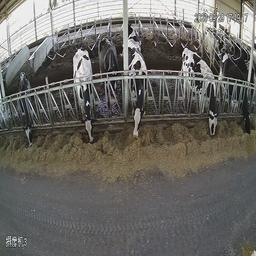cow: (181, 44, 219, 137), (221, 52, 254, 131), (73, 52, 97, 144), (127, 38, 146, 140), (14, 73, 34, 148), (98, 35, 119, 105), (191, 16, 218, 65)
